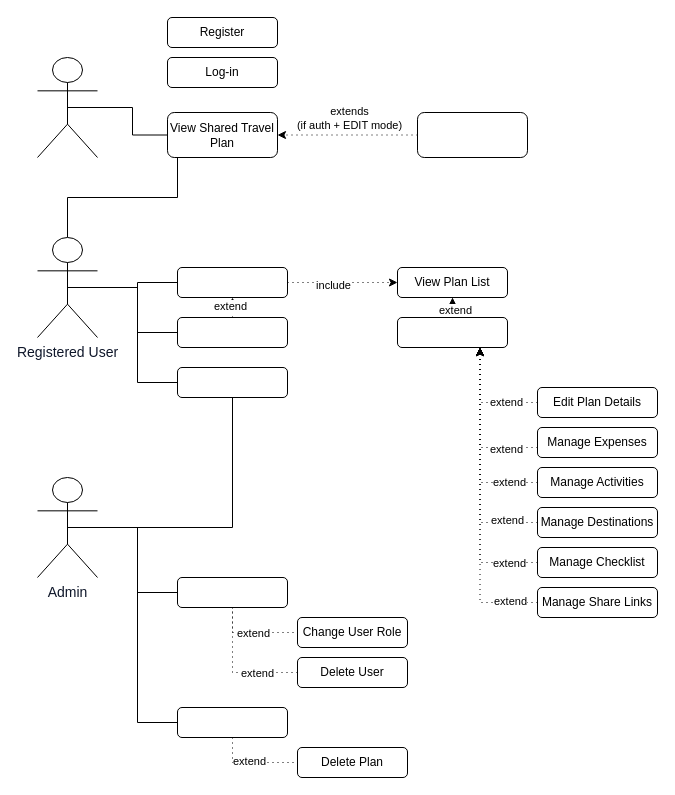
Some shapes in this 675 by 795 pixel diagram are drawn without their labels. Here are the shapes that lost their labels. From the top down, the box of each, then its label:
(36, 56, 98, 158): Visitor
(416, 112, 528, 158): Edit Shared Travel Plan
(176, 266, 288, 298): Manage Own Plans
(176, 316, 288, 348): Create Travel Plan
(396, 316, 508, 348): View Travel Plan
(176, 366, 288, 398): Log-out
(176, 576, 288, 608): Manage Users
(176, 706, 288, 738): Manage Plans
